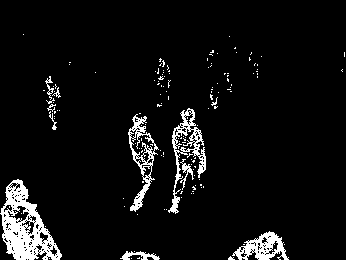person: (1, 173, 67, 260), (127, 112, 166, 215), (171, 106, 207, 214), (44, 76, 62, 131)
